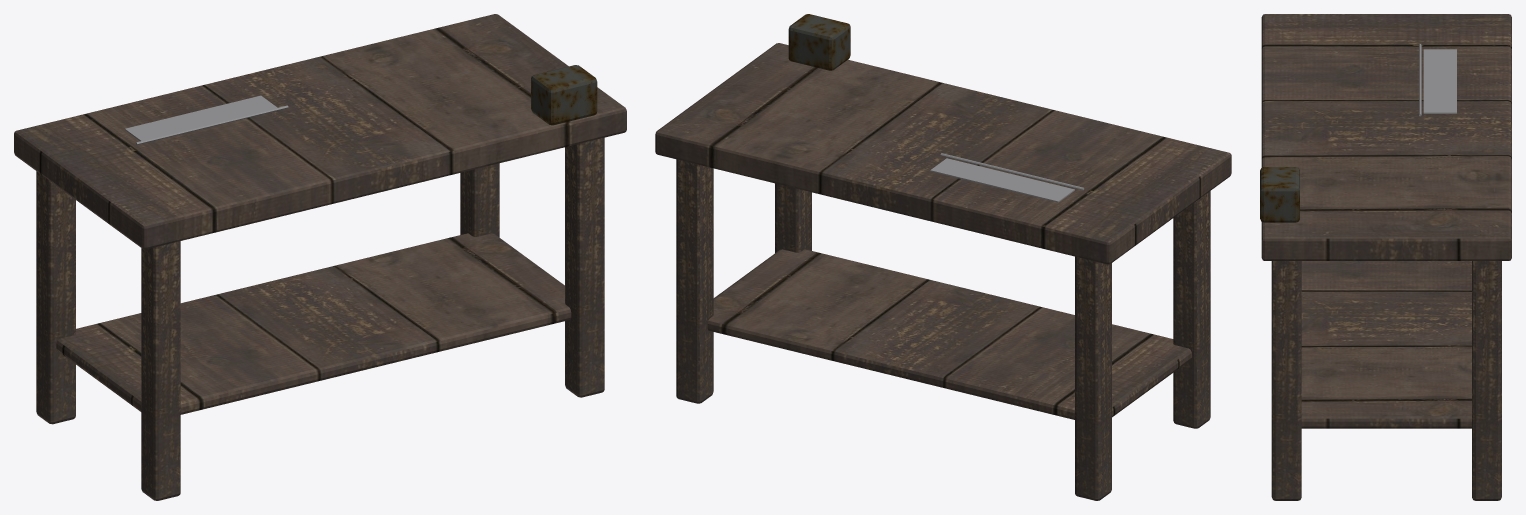
File: workbench.glb
3 renders of one model, left to right at view 1: azimuth 30°, elevation 25°; view 2: azimuth 150°, elevation 25°; view 3: azimuth 270°, elevation 25°, orthographic. The views are drawn at different scales.
Visible parts, largest first — view 1: top, shelf, leg-0.7-0.3, leg0.7-0.3, leg-0.70.3, vise, leg0.70.3, sawblade; view 2: top, shelf, leg0.70.3, leg-0.70.3, leg-0.7-0.3, vise, leg0.7-0.3, sawblade; view 3: top, shelf, leg0.7-0.3, leg0.70.3, vise, sawblade.
Boxes of the visible parts, left/top/right/bottom form: top: left=14, top=14, right=626, bottom=249; shelf: left=56, top=233, right=571, bottom=414; leg-0.7-0.3: left=141, top=241, right=180, bottom=500; leg0.7-0.3: left=565, top=137, right=604, bottom=397; leg-0.70.3: left=36, top=171, right=75, bottom=424; vise: left=531, top=65, right=597, bottom=125; leg0.70.3: left=460, top=163, right=499, bottom=237; sawblade: left=125, top=95, right=277, bottom=141; top: left=655, top=43, right=1231, bottom=264; shelf: left=707, top=249, right=1191, bottom=419; leg0.70.3: left=676, top=159, right=713, bottom=403; leg-0.70.3: left=1075, top=256, right=1111, bottom=500; leg-0.7-0.3: left=1173, top=191, right=1210, bottom=428; vise: left=788, top=14, right=850, bottom=70; leg0.7-0.3: left=775, top=183, right=811, bottom=252; sawblade: left=930, top=158, right=1074, bottom=202; top: left=1261, top=14, right=1511, bottom=260; shelf: left=1301, top=261, right=1471, bottom=428; leg0.7-0.3: left=1271, top=261, right=1301, bottom=500; leg0.70.3: left=1472, top=261, right=1501, bottom=500; vise: left=1260, top=167, right=1299, bottom=222; sawblade: left=1423, top=49, right=1456, bottom=113.
Size of the model in its own units: 1.6 by 1.02 by 0.755.
Materials: 4 (3 with a texture image).
